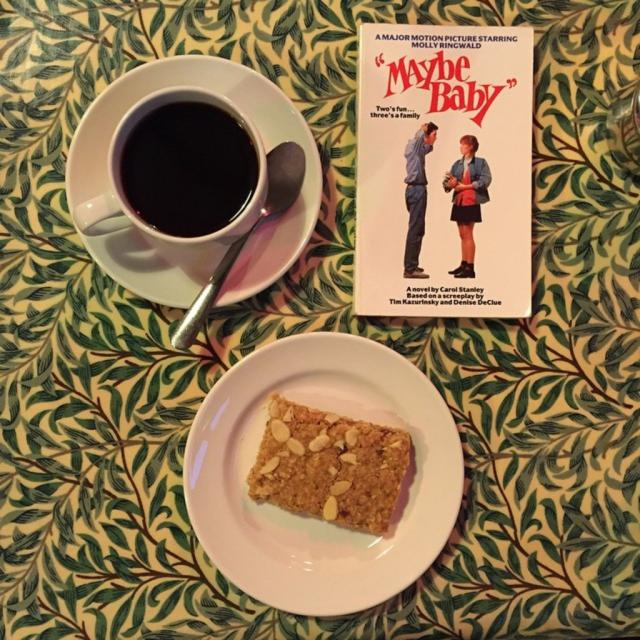Coffee: (56, 74, 297, 261)
Tea: (122, 98, 257, 238)
